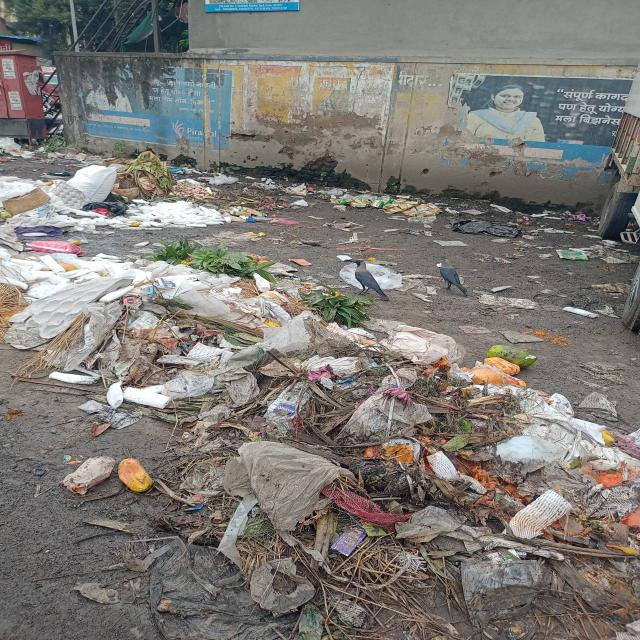garbage: (103, 281, 635, 635), (6, 250, 303, 415), (0, 153, 278, 236), (288, 187, 520, 238)
